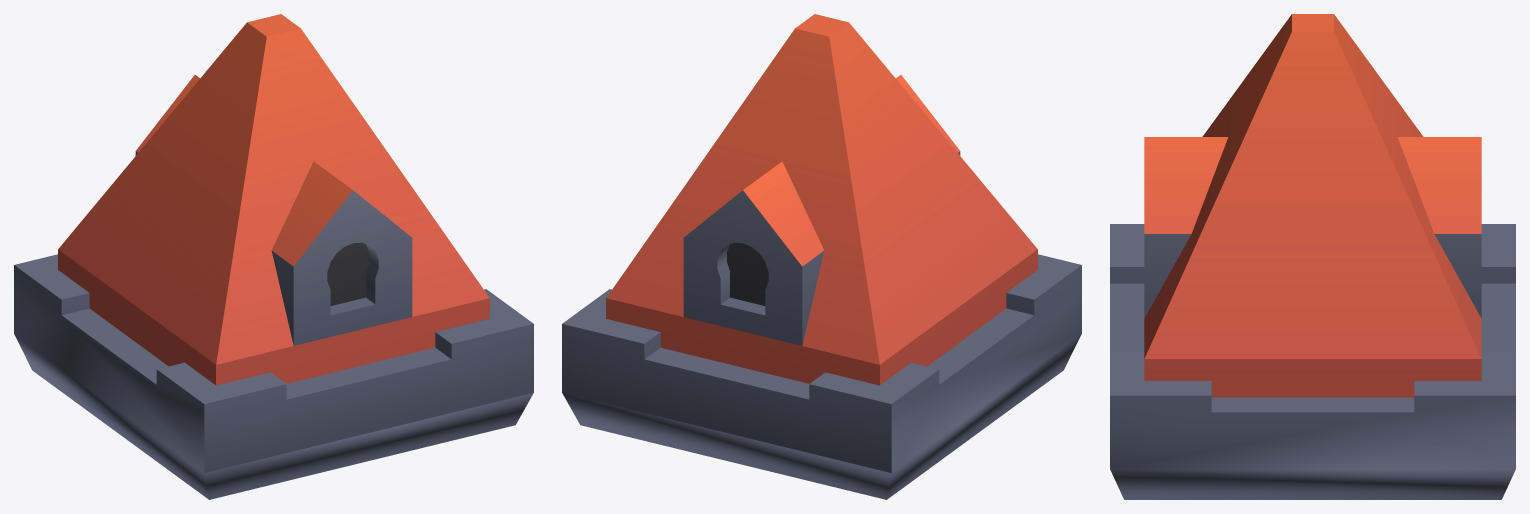
The model's file is tower-square-top-roof-high-windows.fbx.
3 renders of one model, left to right at view 1: azimuth 30°, elevation 25°; view 2: azimuth 150°, elevation 25°; view 3: azimuth 270°, elevation 25°, orthographic. The views are drawn at different scales.
Parts seen in each view (by area): view 1: tower-square-top-roof-high-windows; view 2: tower-square-top-roof-high-windows; view 3: tower-square-top-roof-high-windows.
Part boxes in pixels (bbox=[...]): tower-square-top-roof-high-windows: bbox=[14, 14, 533, 499]; tower-square-top-roof-high-windows: bbox=[562, 14, 1081, 499]; tower-square-top-roof-high-windows: bbox=[1110, 14, 1515, 499].
Size of the model in its own units: 1 by 1 by 1.08.
